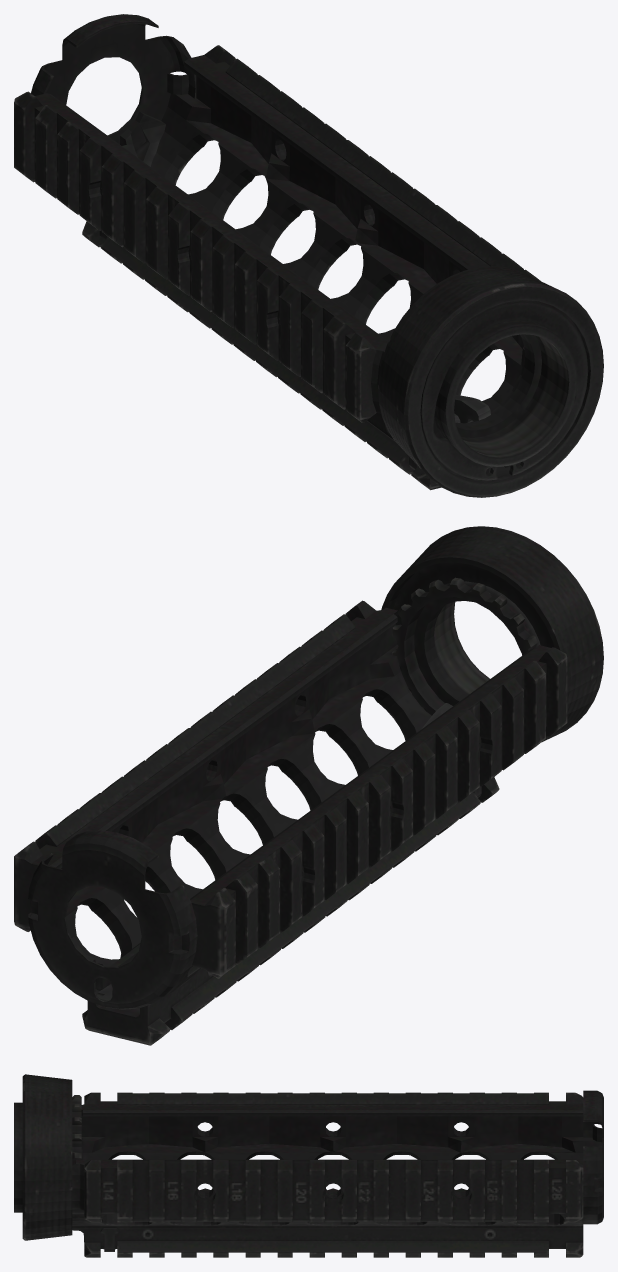
The picture shows the model from 3 angles, top to bottom: view 1: azimuth 30°, elevation 25°; view 2: azimuth 150°, elevation 25°; view 3: azimuth 270°, elevation 25°; orthographic projection. The views are drawn at different scales.
Visible parts, largest first — view 1: TW_55d459824bdc2d892f8b4573_PZ_Import; view 2: TW_55d459824bdc2d892f8b4573_PZ_Import; view 3: TW_55d459824bdc2d892f8b4573_PZ_Import.
Boxes of the visible parts, bbox=[...] form: TW_55d459824bdc2d892f8b4573_PZ_Import: bbox=[14, 14, 603, 497]; TW_55d459824bdc2d892f8b4573_PZ_Import: bbox=[14, 526, 603, 1045]; TW_55d459824bdc2d892f8b4573_PZ_Import: bbox=[14, 1074, 603, 1257].
Bounding box in the file's own units: 0.0319 × 0.1065 × 0.0328.
Materials: 1 (1 with a texture image).
